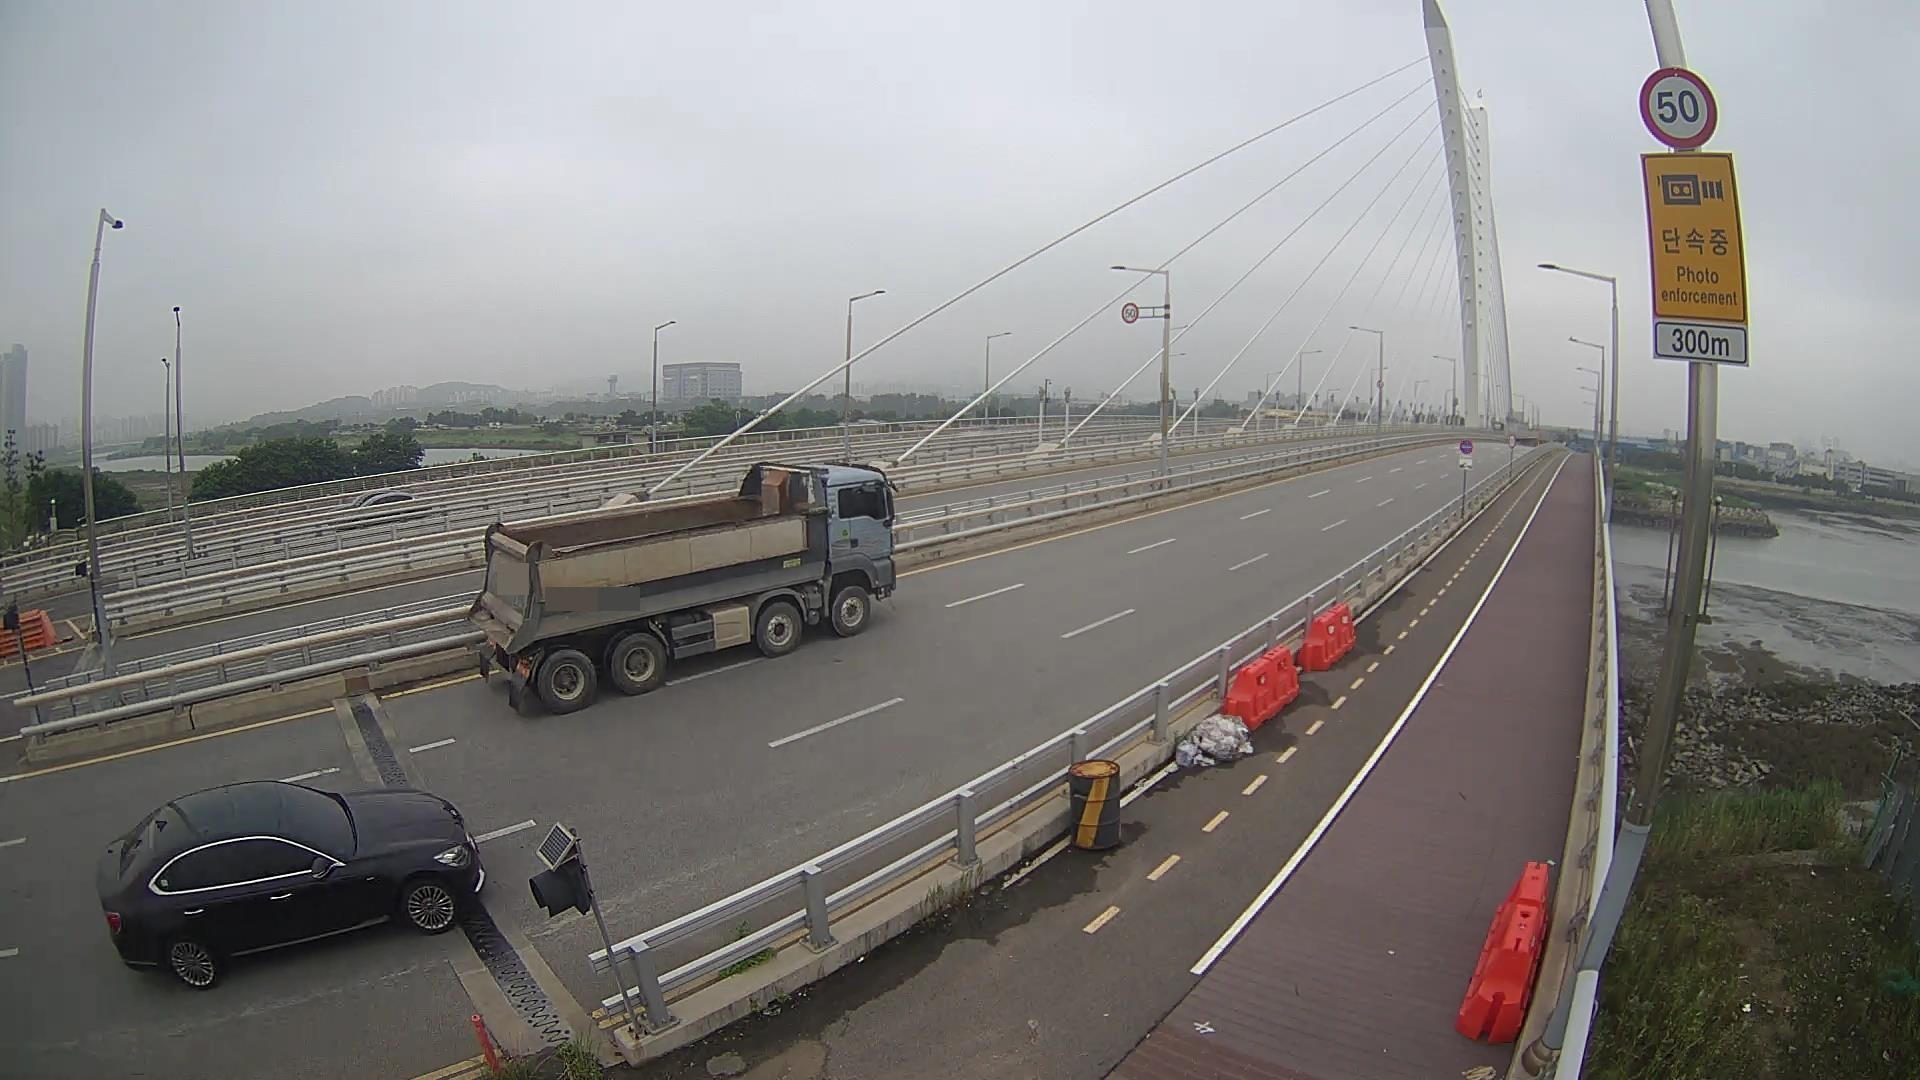정상차량: (468, 461, 900, 715)
